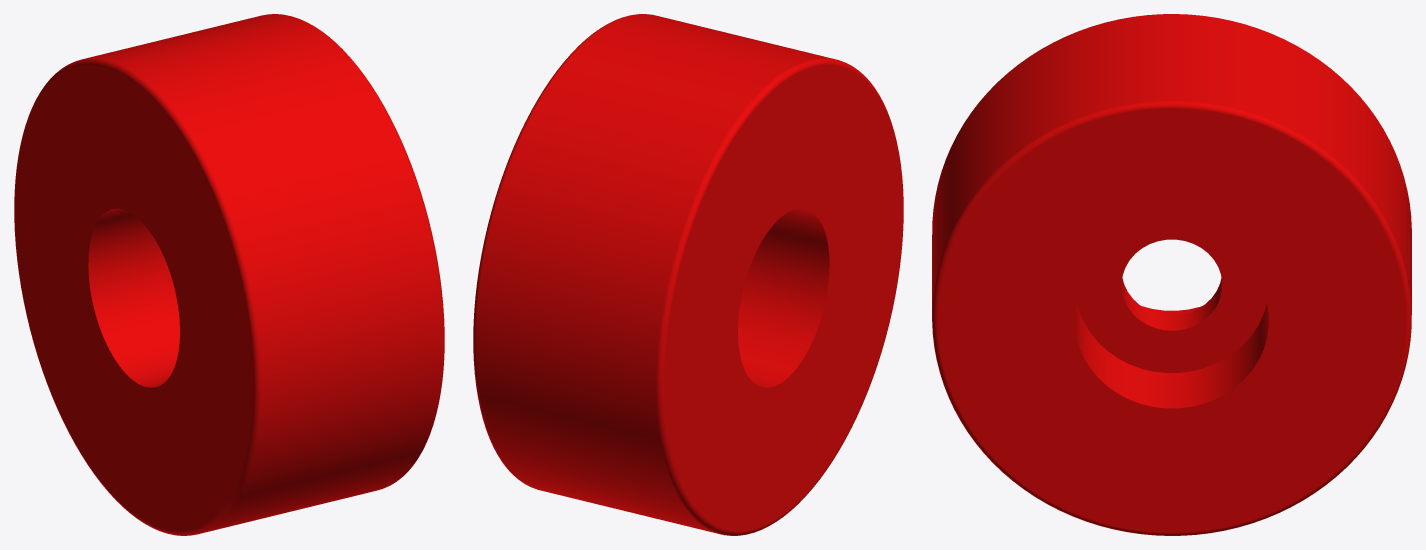
The model's file is PUCK.glb.
The picture shows the model from 3 angles, left to right: view 1: azimuth 30°, elevation 25°; view 2: azimuth 150°, elevation 25°; view 3: azimuth 270°, elevation 25°; orthographic projection.
Parts seen in each view (by area): view 1: PUCK; view 2: PUCK; view 3: PUCK.
Boxes of the visible parts, x1=… form: PUCK: x1=14, y1=14, x2=444, y2=535; PUCK: x1=473, y1=14, x2=903, y2=535; PUCK: x1=932, y1=14, x2=1411, y2=535.
Size of the model in its own units: 0.018 by 0.04 by 0.04.
